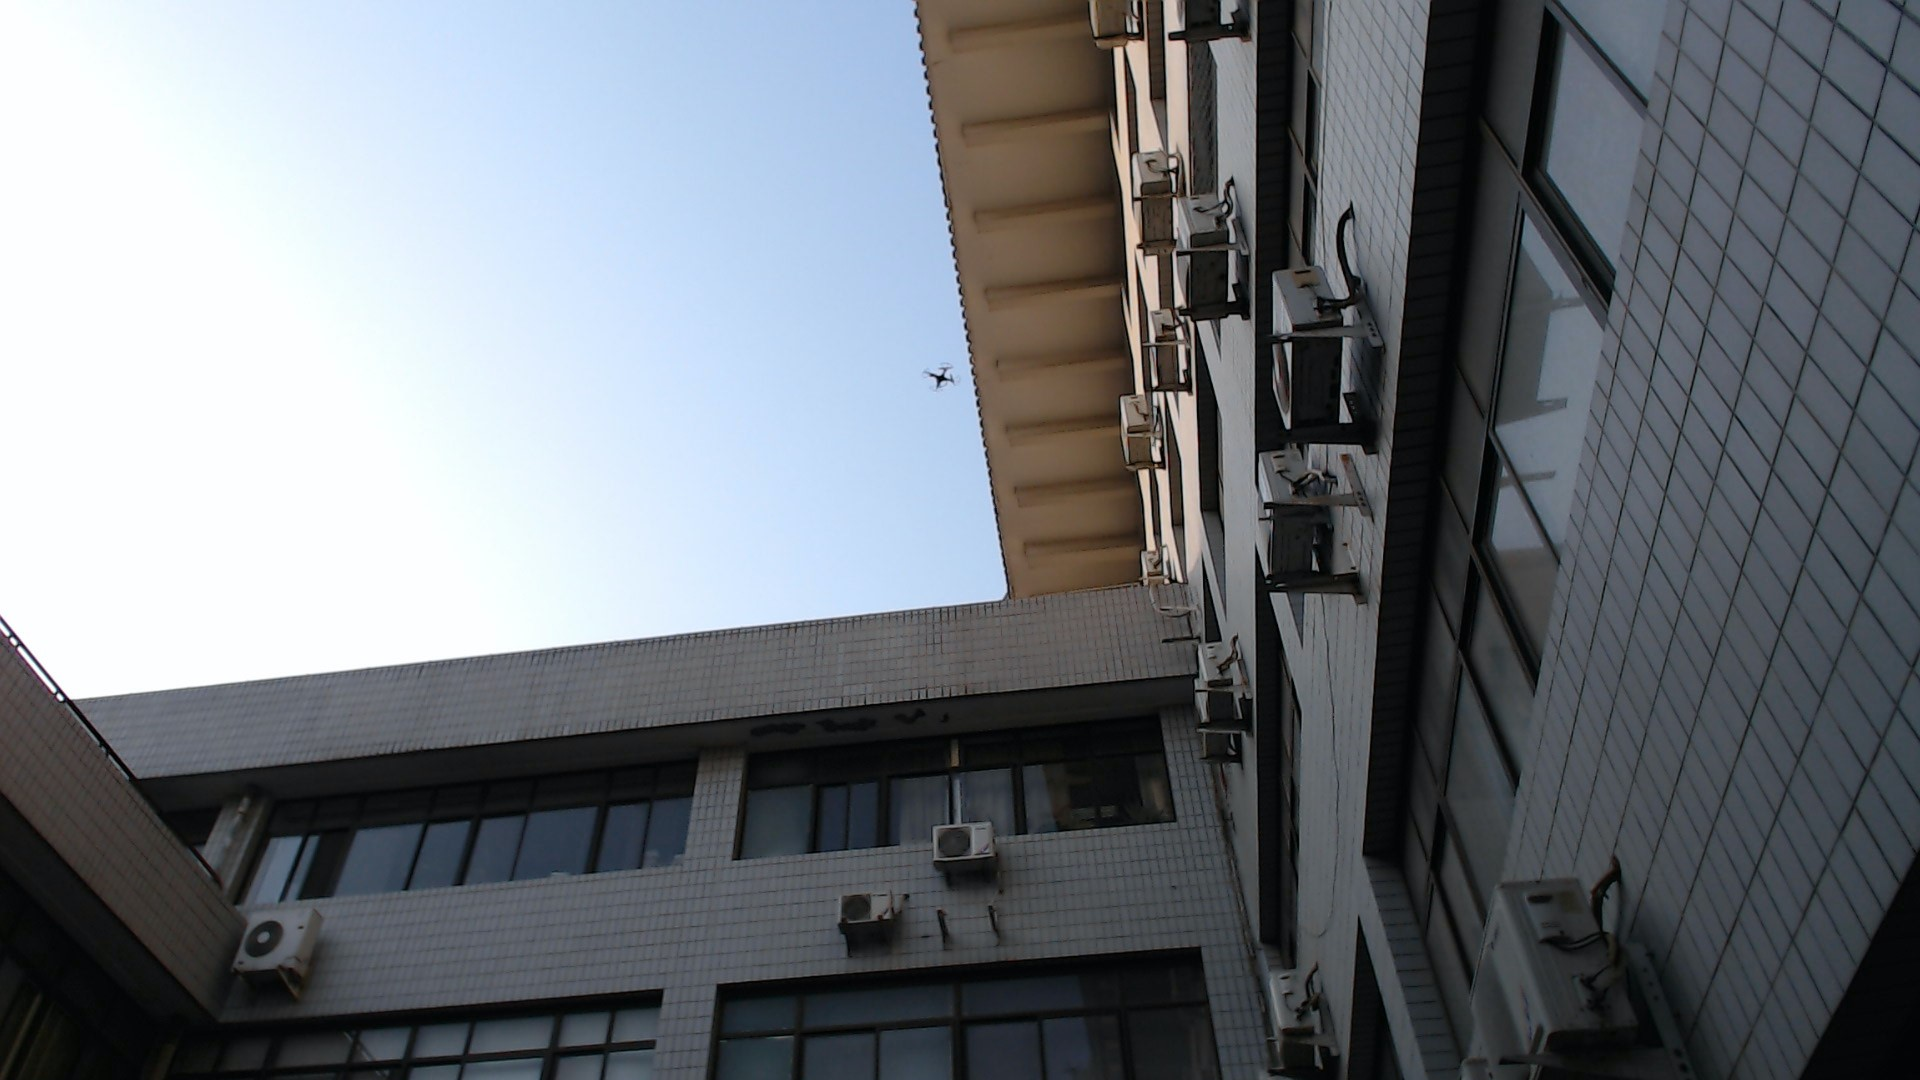drone: (910, 345, 976, 407)
